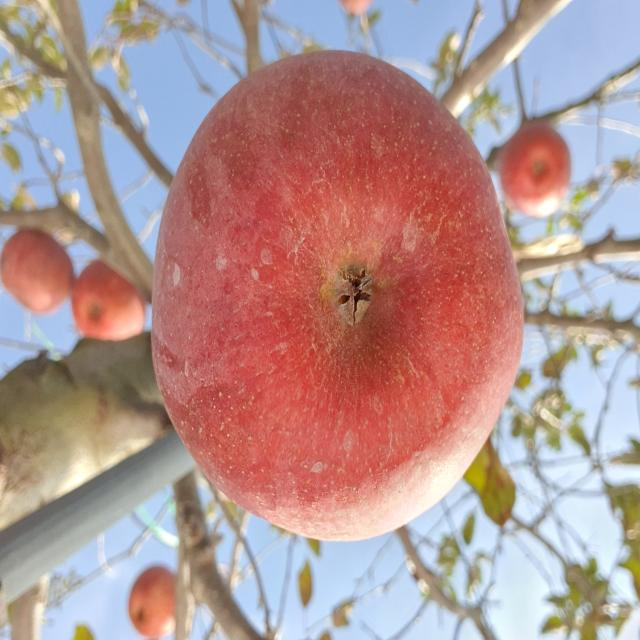fresh: (140, 39, 535, 551)
